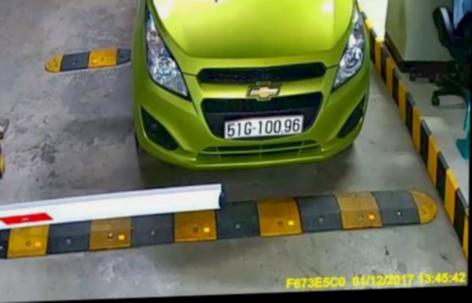License_Plate: (224, 110, 303, 141)
